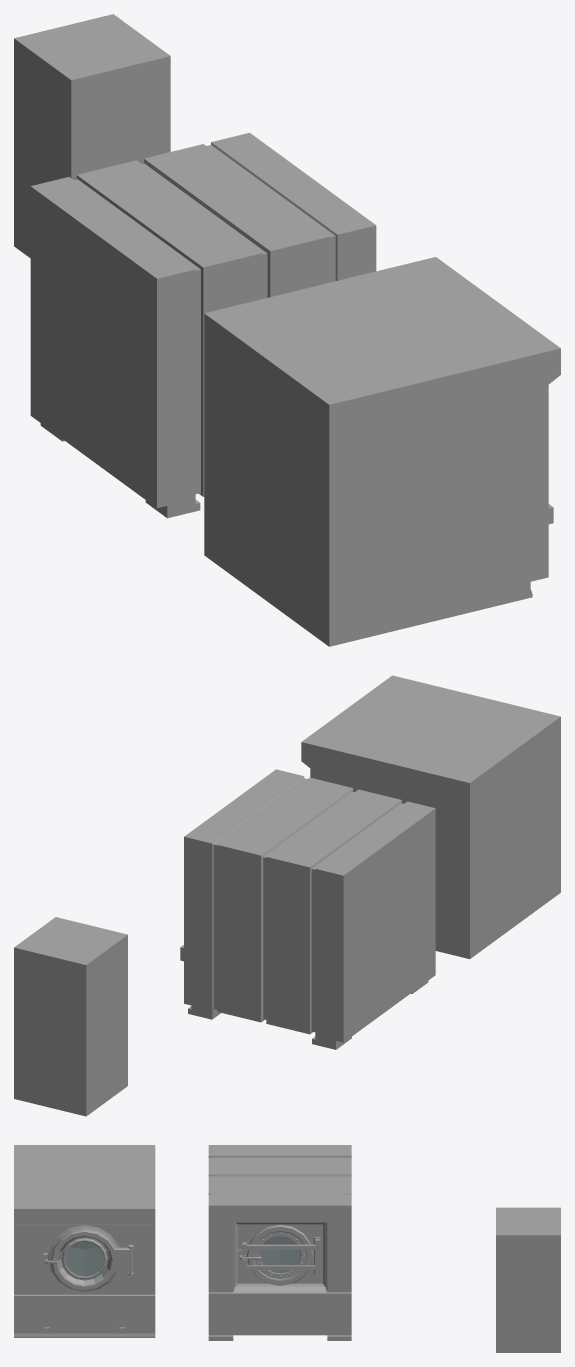
File: WasherDryer1_MDL_PDH.fbx
3 renders of one model, top to bottom at view 1: azimuth 30°, elevation 25°; view 2: azimuth 150°, elevation 25°; view 3: azimuth 270°, elevation 25°, orthographic. The views are drawn at different scales.
Parts seen in each view (by area): view 1: pCube21, pCube2, pCube1; view 2: pCube2, pCube21, pCube1; view 3: pCube2, pCube21, pCube1, pCylinder3, polySurface3, pCube3, polySurface6, polySurface5, polySurface4, polySurface2.
Boxes of the visible parts, x1,y1,x2,y2 form: pCube21: (204,257,560,646); pCube2: (30,132,376,518); pCube1: (14,14,170,258); pCube2: (180,769,435,1049); pCube21: (301,675,560,958); pCube1: (14,917,127,1116); pCube2: (208,1145,351,1340); pCube21: (14,1145,155,1337); pCube1: (496,1207,560,1352); pCylinder3: (48,1225,130,1291); polySurface3: (247,1224,313,1285); pCube3: (242,1237,320,1275); polySurface6: (65,1241,104,1276); polySurface5: (65,1242,103,1276); polySurface4: (259,1236,300,1273); polySurface2: (260,1236,300,1272).
Bounding box in the file's own units: 2.69 × 2.33 × 8.43.
